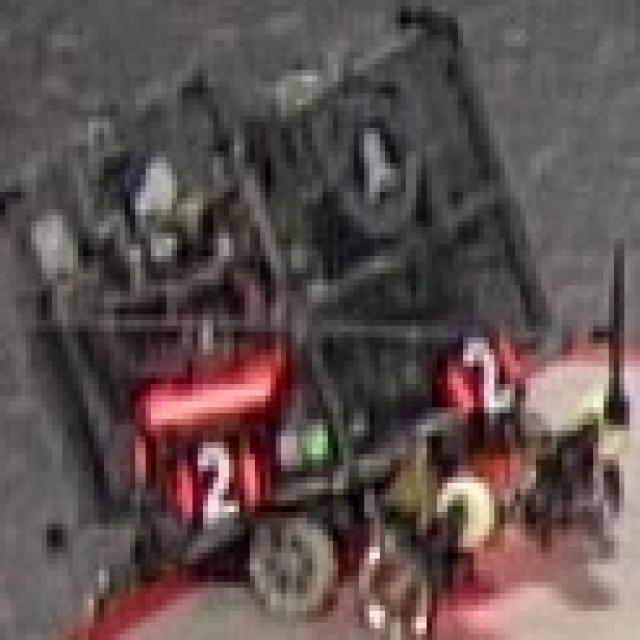R2: (172, 436, 260, 524), (442, 326, 526, 413)
